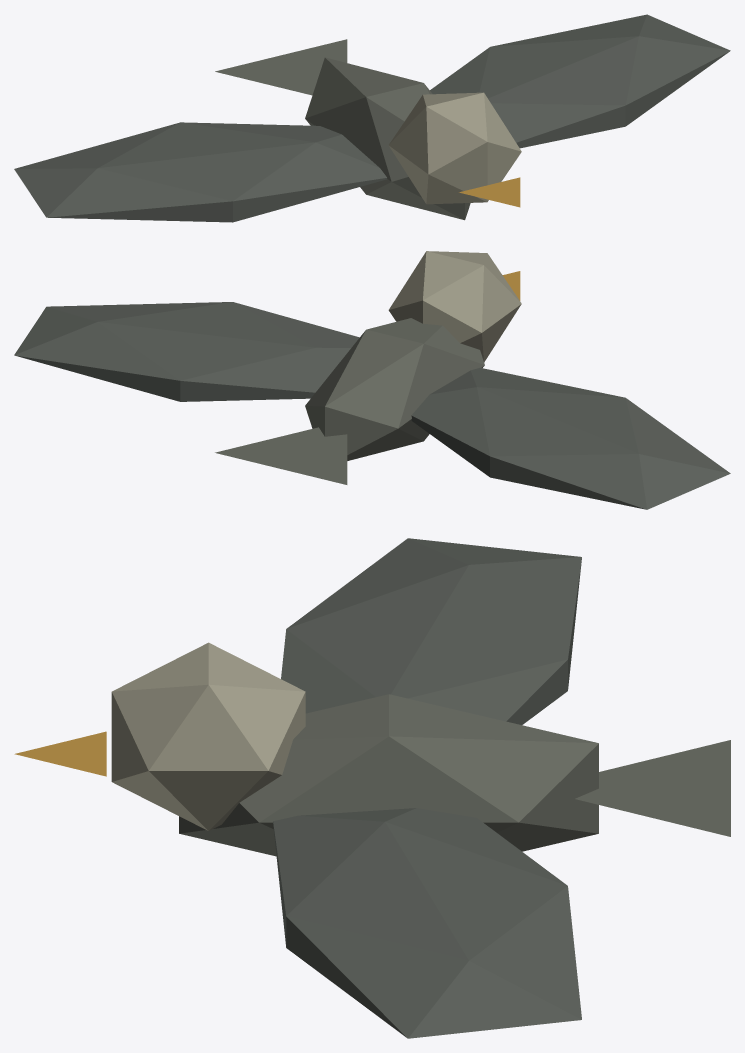
Rendered from bird.glb.
3 renders of one model, top to bottom at view 1: azimuth 30°, elevation 25°; view 2: azimuth 150°, elevation 25°; view 3: azimuth 270°, elevation 25°, orthographic. The views are drawn at different scales.
Parts seen in each view (by area): view 1: bird-wing-left-surface, bird-surface, bird-wing-right-surface; view 2: bird-surface, bird-wing-left-surface, bird-wing-right-surface; view 3: bird-surface, bird-wing-right-surface, bird-wing-left-surface.
Boxes of the visible parts, box(x1,y1,x2,y2) form: bird-wing-left-surface: box(14, 122, 386, 222); bird-surface: box(215, 39, 521, 220); bird-wing-right-surface: box(430, 14, 730, 148); bird-surface: box(215, 251, 521, 484); bird-wing-left-surface: box(411, 367, 730, 509); bird-wing-right-surface: box(14, 302, 359, 401); bird-surface: box(14, 642, 730, 856); bird-wing-right-surface: box(273, 808, 581, 1038); bird-wing-left-surface: box(281, 538, 581, 724).
Bounding box in the file's own units: 1.25 × 0.2301 × 0.755.
